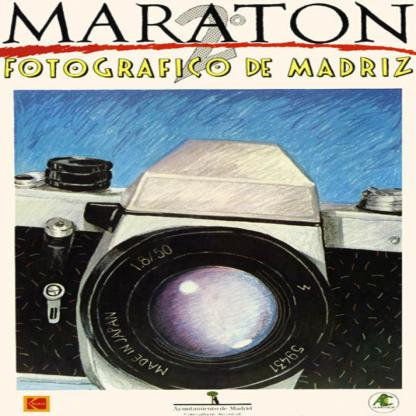Camera: (14, 139, 407, 391)
